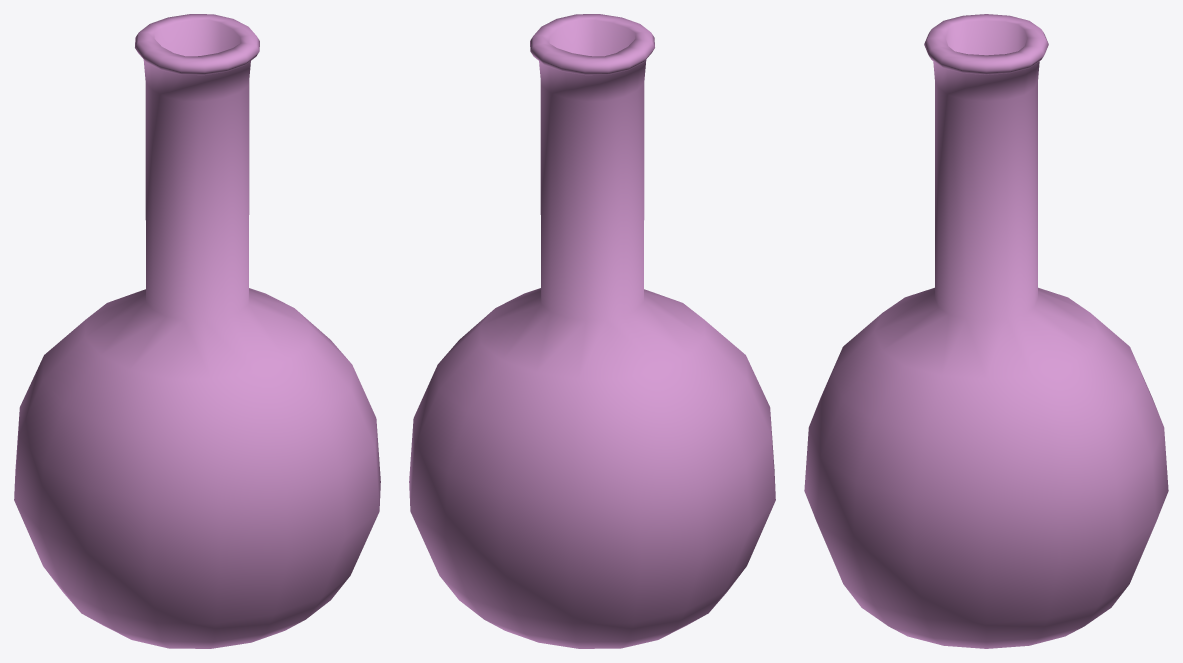
The model's file is proveta3.FBX.
3 views of the same model, side by side, from view 1: azimuth 30°, elevation 25°; view 2: azimuth 150°, elevation 25°; view 3: azimuth 270°, elevation 25° (orthographic).
Parts seen in each view (by area): view 1: proveta3_low; view 2: proveta3_low; view 3: proveta3_low.
Part boxes in pixels (x1,y1,x2,y2): proveta3_low: (14, 14, 380, 648); proveta3_low: (409, 14, 775, 648); proveta3_low: (804, 14, 1168, 648).
Bounding box in the file's own units: 5.87 × 10.09 × 5.87.
